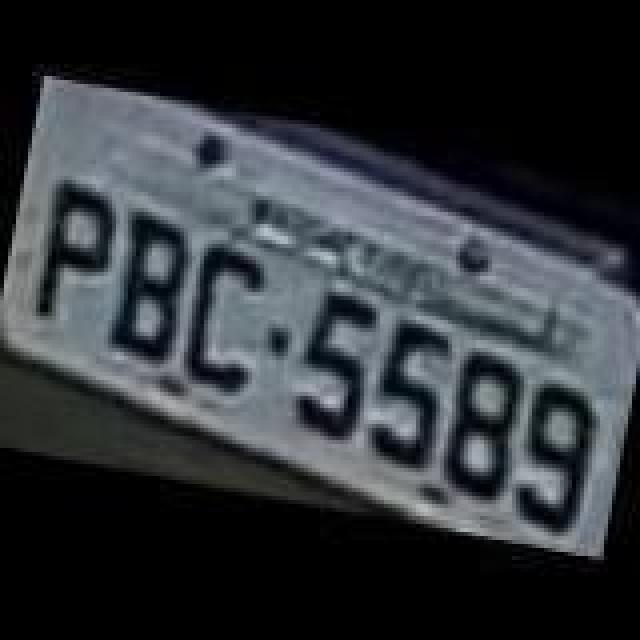5: (284, 282, 388, 450), (358, 314, 458, 474)
8: (428, 344, 532, 500)
9: (498, 374, 606, 538)
B: (96, 208, 200, 368)
C: (170, 238, 278, 398)
P: (26, 178, 126, 334)
